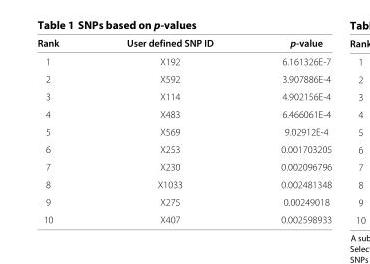table: (36, 36, 331, 224)
table column: (92, 36, 246, 224), (246, 36, 331, 224), (36, 36, 92, 224)
table column header: (36, 36, 331, 51)
table row: (36, 51, 331, 69), (36, 69, 331, 87), (36, 87, 331, 105), (36, 122, 331, 140), (36, 157, 331, 175), (36, 192, 331, 210), (36, 105, 331, 122), (36, 140, 331, 157), (36, 175, 331, 192), (36, 36, 331, 51), (36, 210, 331, 224)
